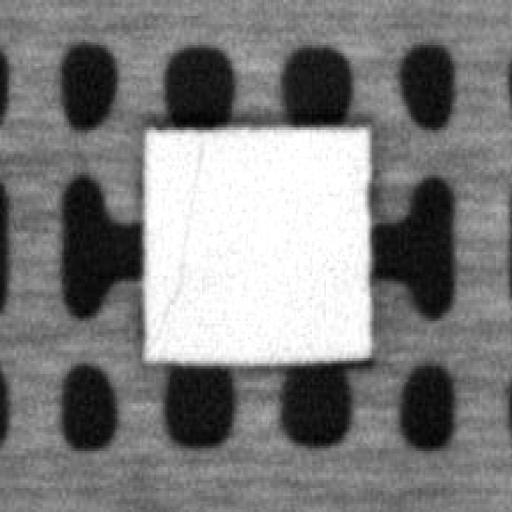DIE_CRACK: (144, 140, 206, 352)
